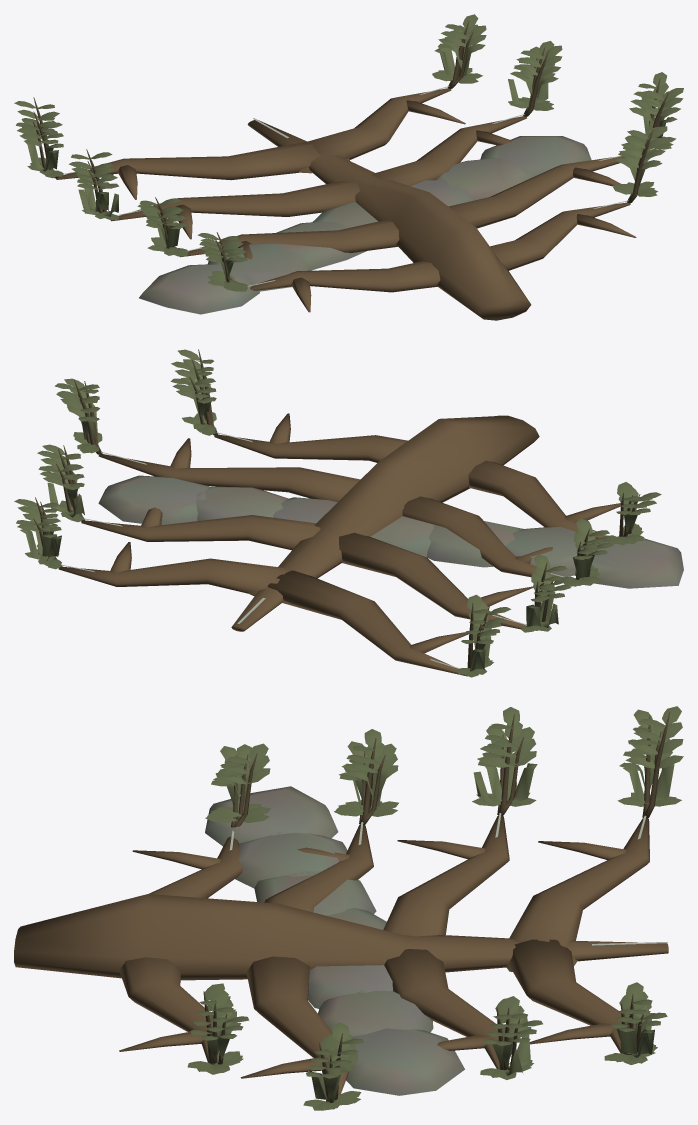
File: white-brace.glb
3 views of the same model, one above another, from view 1: azimuth 30°, elevation 25°; view 2: azimuth 150°, elevation 25°; view 3: azimuth 270°, elevation 25° (orthographic). The views are drawn at different scales.
Parts seen in each view (by area): view 1: LAND05 white-brace; view 2: LAND05 white-brace; view 3: LAND05 white-brace.
Boxes of the visible parts, x1,y1,x2,y2 form: LAND05 white-brace: (14, 14, 683, 320); LAND05 white-brace: (14, 349, 683, 677); LAND05 white-brace: (14, 706, 683, 1110).
Bounding box in the file's own units: 5.83 × 0.9152 × 4.74.
